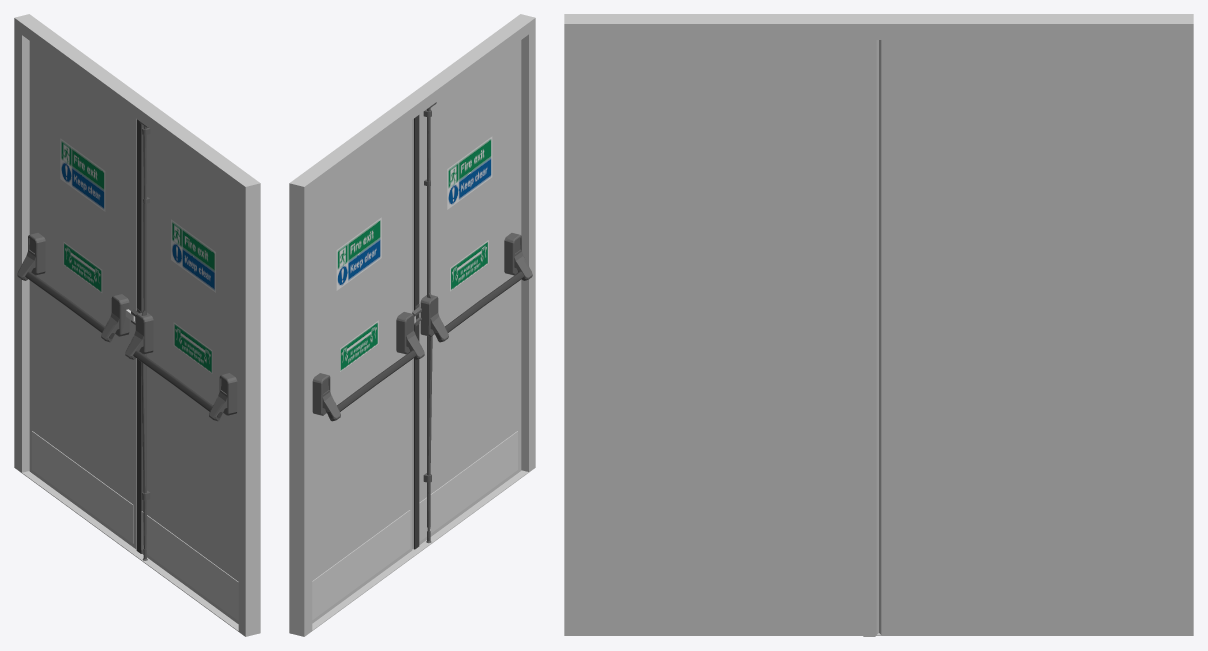
Rendered from Porta_Lab11.fbx.
3 views of the same model, side by side, from view 1: azimuth 30°, elevation 25°; view 2: azimuth 150°, elevation 25°; view 3: azimuth 270°, elevation 25° (orthographic). The views are drawn at different scales.
Visible parts, largest first — view 1: Rear Doors, Door Metal guard, Door Handle Mechanism, 316313476cfe2ddee7782e7855b64367, c790c7f50dab9e8a5c5f82b94b61fbc8, Door Handle; view 2: Rear Doors, Door Metal guard, Door Handle Mechanism, 316313476cfe2ddee7782e7855b64367, c790c7f50dab9e8a5c5f82b94b61fbc8, Door Handle; view 3: Rear Doors.
Part boxes in pixels (x1,y1,x2,y2): Rear Doors: (14,14,260,636); Door Metal guard: (32,431,238,620); Door Handle Mechanism: (17,121,237,560); 316313476cfe2ddee7782e7855b64367: (60,138,215,292); c790c7f50dab9e8a5c5f82b94b61fbc8: (63,242,212,373); Door Handle: (25,271,222,418); Rear Doors: (289,14,535,636); Door Metal guard: (312,431,517,619); Door Handle Mechanism: (312,102,532,543); 316313476cfe2ddee7782e7855b64367: (336,136,492,290); c790c7f50dab9e8a5c5f82b94b61fbc8: (340,240,488,371); Door Handle: (327,271,524,418); Rear Doors: (564,14,1193,636).
Bounding box in the file's own units: 10.91 × 157 × 145.
